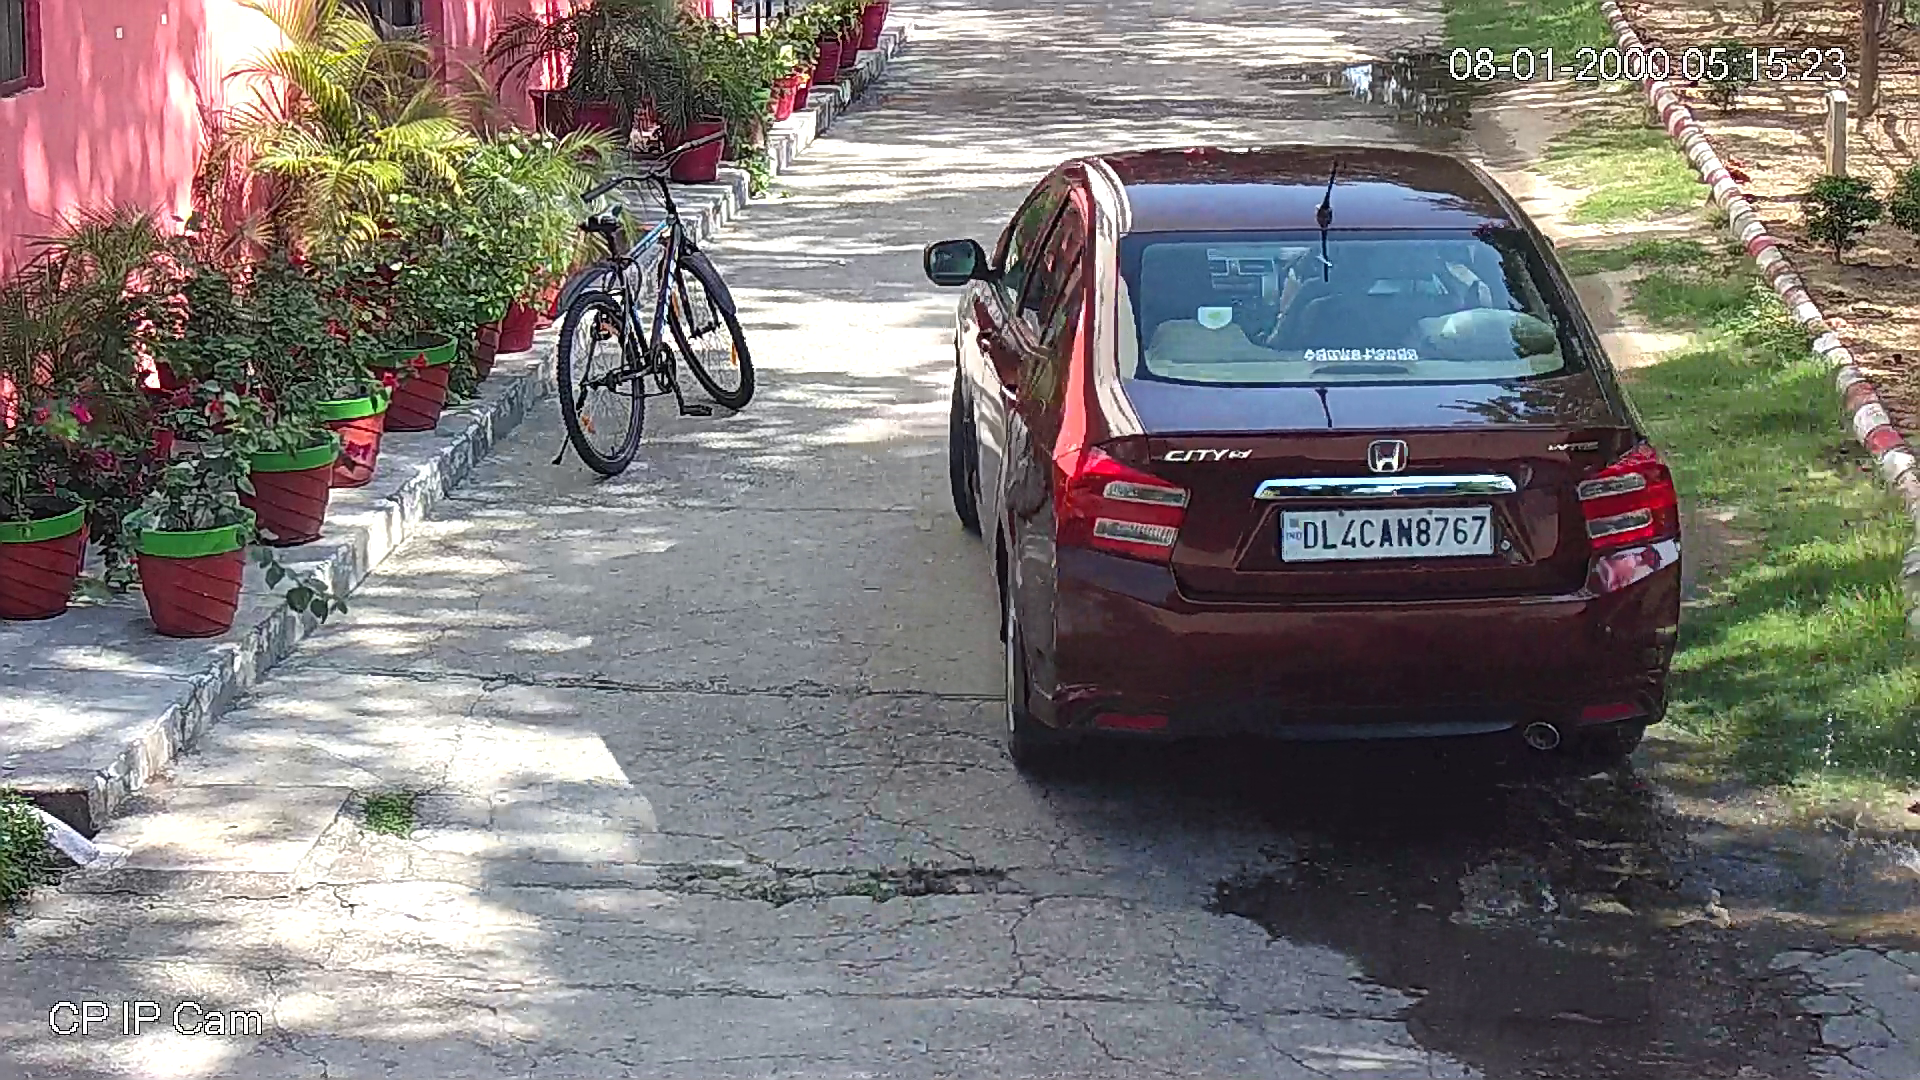plate: (1270, 499, 1496, 567)
